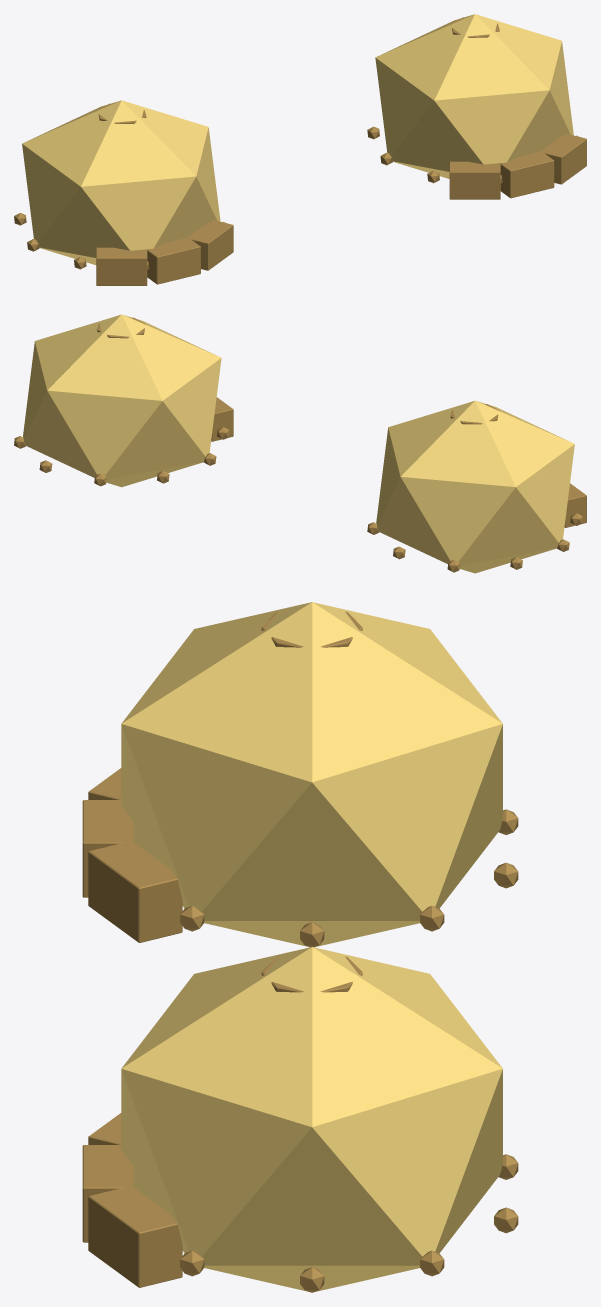
The model's file is pauldrons_gold.glb.
3 views of the same model, one above another, from view 1: azimuth 30°, elevation 25°; view 2: azimuth 150°, elevation 25°; view 3: azimuth 270°, elevation 25° (orthographic). The views are drawn at different scales.
Parts seen in each view (by area): view 1: Pauldrons; view 2: Pauldrons; view 3: Pauldrons.
Part boxes in pixels (<box>): Pauldrons: <box>14,14,586,285</box>; Pauldrons: <box>14,314,586,573</box>; Pauldrons: <box>82,602,518,1292</box>.
Size of the model in its own units: 1.23 by 0.374 by 0.4271.
